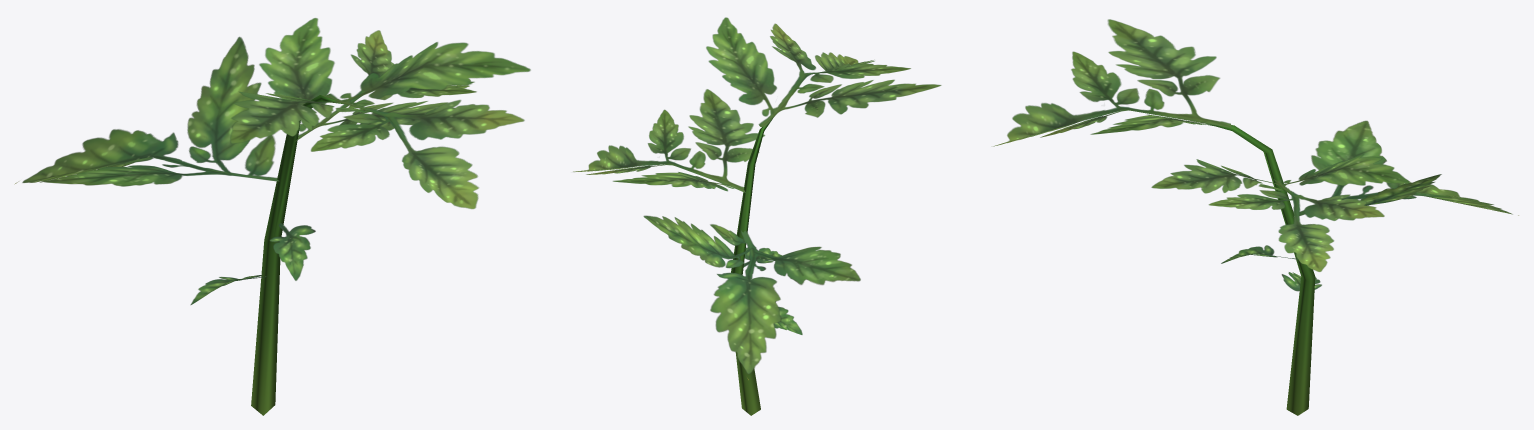
File: plant_tomato_S1.gltf
3 renders of one model, left to right at view 1: azimuth 30°, elevation 25°; view 2: azimuth 150°, elevation 25°; view 3: azimuth 270°, elevation 25°, orthographic. The views are drawn at different scales.
Parts seen in each view (by area): view 1: plant_tomato_S1; view 2: plant_tomato_S1; view 3: plant_tomato_S1.
Part boxes in pixels (<box>): plant_tomato_S1: <box>14,18,530,415</box>; plant_tomato_S1: <box>573,17,941,415</box>; plant_tomato_S1: <box>992,19,1518,415</box>.
Size of the model in its own units: 0.2746 by 0.2432 by 0.3466.
Materials: 1 (1 with a texture image).
